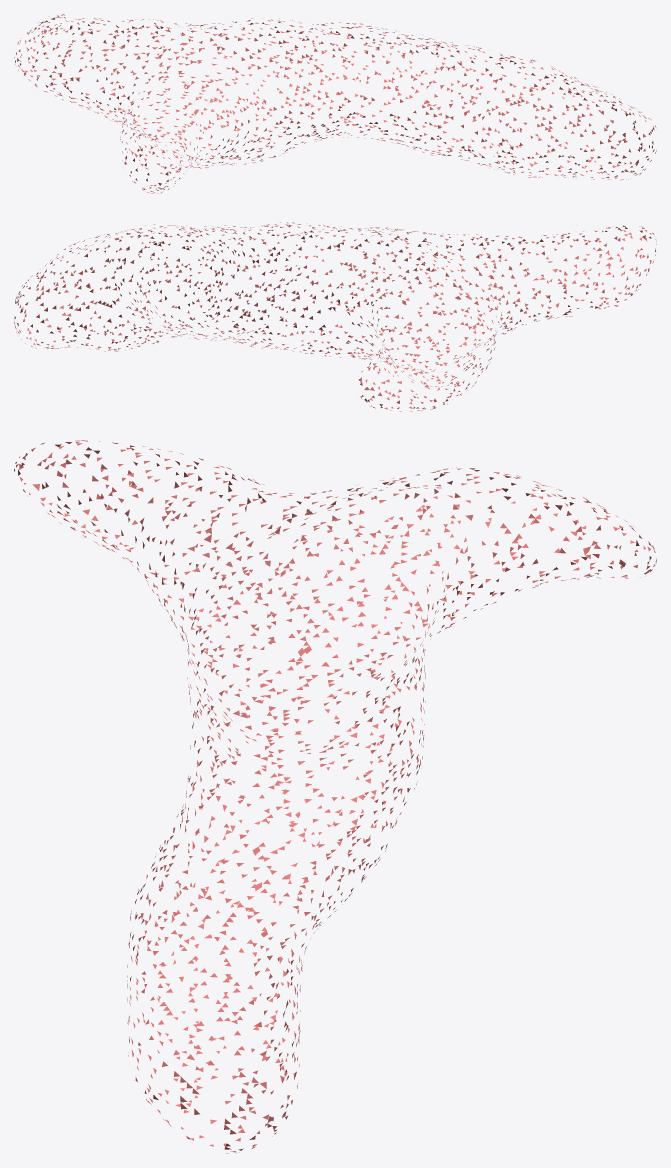
Rendered from morph_000.glb.
3 renders of one model, top to bottom at view 1: azimuth 30°, elevation 25°; view 2: azimuth 150°, elevation 25°; view 3: azimuth 270°, elevation 25°, orthographic. The views are drawn at different scales.
Bounding box in the file's own units: 102 × 37.92 × 65.67.
